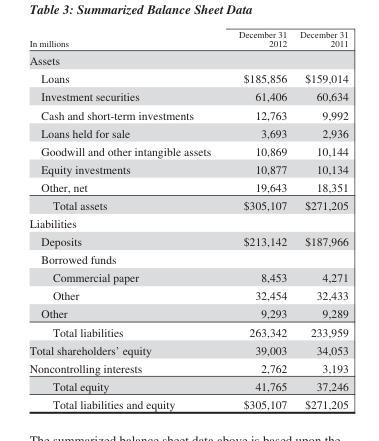table: (28, 28, 347, 410)
table column: (28, 28, 224, 410), (224, 28, 292, 410), (292, 28, 347, 410)
table column header: (28, 28, 347, 50)
table projected row header: (28, 50, 347, 69), (28, 214, 347, 232), (28, 250, 347, 268)
table row: (28, 28, 347, 50), (28, 50, 347, 69), (28, 195, 347, 214), (28, 69, 347, 87), (28, 87, 347, 105), (28, 105, 347, 123), (28, 123, 347, 141), (28, 141, 347, 159), (28, 159, 347, 177), (28, 177, 347, 195), (28, 214, 347, 232), (28, 232, 347, 250), (28, 250, 347, 268), (28, 268, 347, 286), (28, 286, 347, 304), (28, 304, 347, 322), (28, 322, 347, 340), (28, 340, 347, 358), (28, 358, 347, 376), (28, 376, 347, 394), (28, 394, 347, 410)
